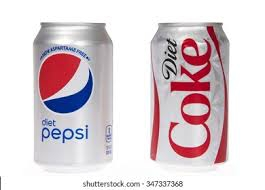can: (30, 19, 117, 170), (148, 19, 231, 170)
